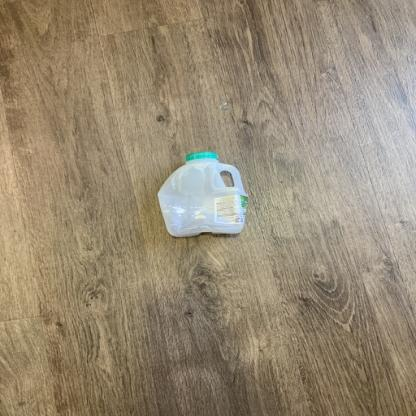trash: (154, 150, 254, 242)
